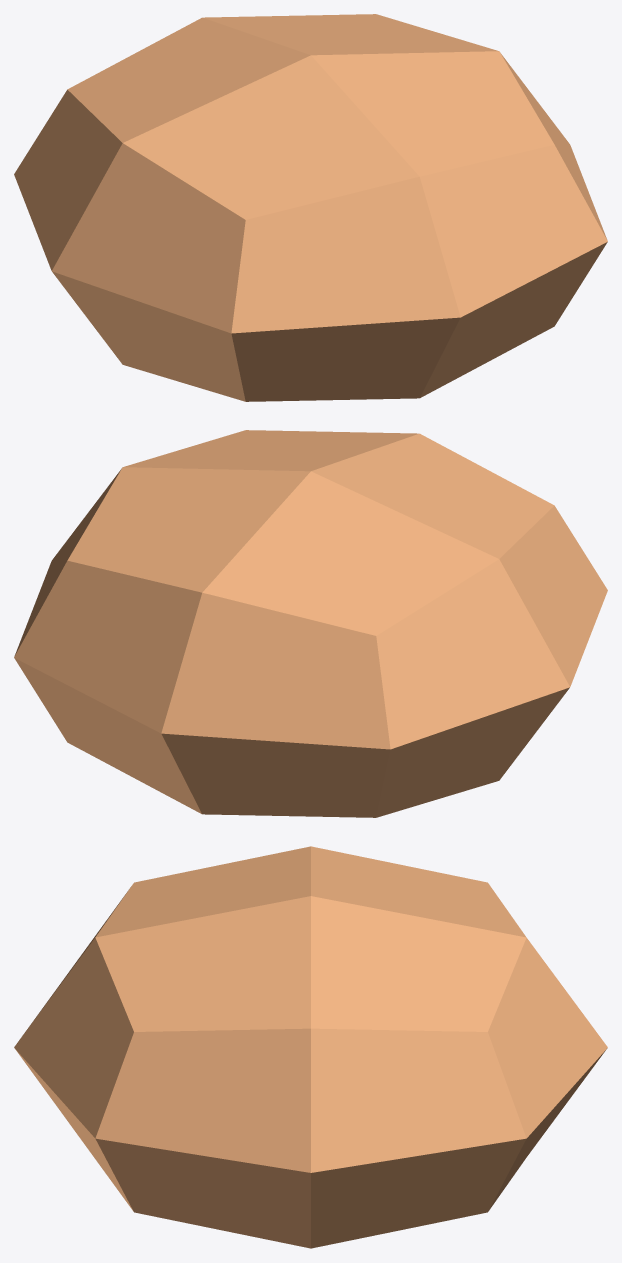
The model's file is rock_small.fbx.
3 views of the same model, one above another, from view 1: azimuth 30°, elevation 25°; view 2: azimuth 150°, elevation 25°; view 3: azimuth 270°, elevation 25° (orthographic).
Visible parts, largest first — view 1: Cube.060; view 2: Cube.060; view 3: Cube.060.
Boxes of the visible parts, left/top/right/bottom form: Cube.060: left=14, top=14, right=607, bottom=401; Cube.060: left=14, top=430, right=607, bottom=817; Cube.060: left=14, top=846, right=607, bottom=1248.
Size of the model in its own units: 0.503 by 0.503 by 0.283.
